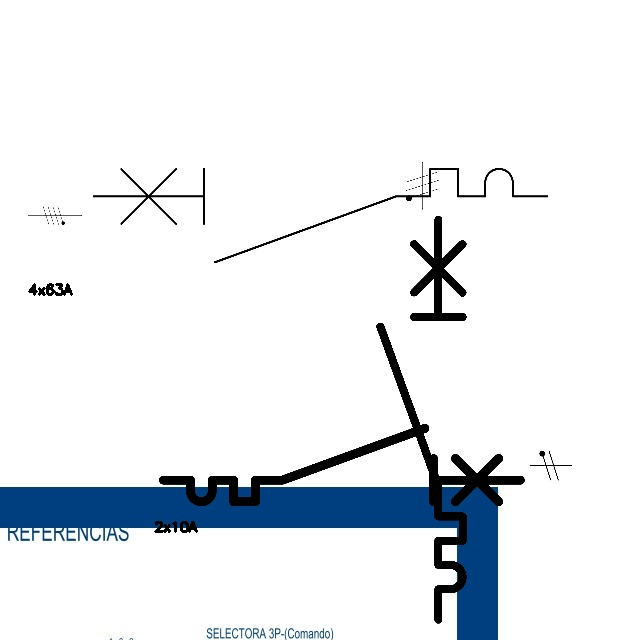interruptor_termomagnetico: (81, 157, 558, 274), (370, 209, 473, 629), (154, 419, 529, 511)
